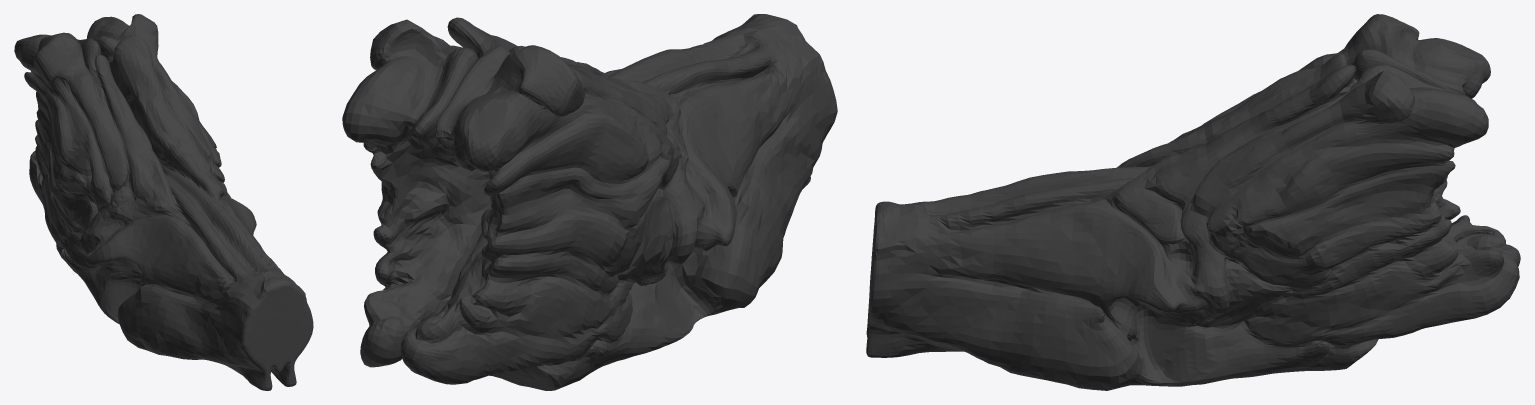
The model's file is Nasal_cavity_copy001.glb.
The picture shows the model from 3 angles, left to right: view 1: azimuth 30°, elevation 25°; view 2: azimuth 150°, elevation 25°; view 3: azimuth 270°, elevation 25°; orthographic projection. The views are drawn at different scales.
Visible parts, largest first — view 1: Nasal_cavity_copy001; view 2: Nasal_cavity_copy001; view 3: Nasal_cavity_copy001.
Boxes of the visible parts, <box> form: Nasal_cavity_copy001: <box>14,14,313,390</box>; Nasal_cavity_copy001: <box>342,14,837,390</box>; Nasal_cavity_copy001: <box>866,14,1520,390</box>.
Bounding box in the file's own units: 226 × 304 × 570.
1 material, 1 textured.
